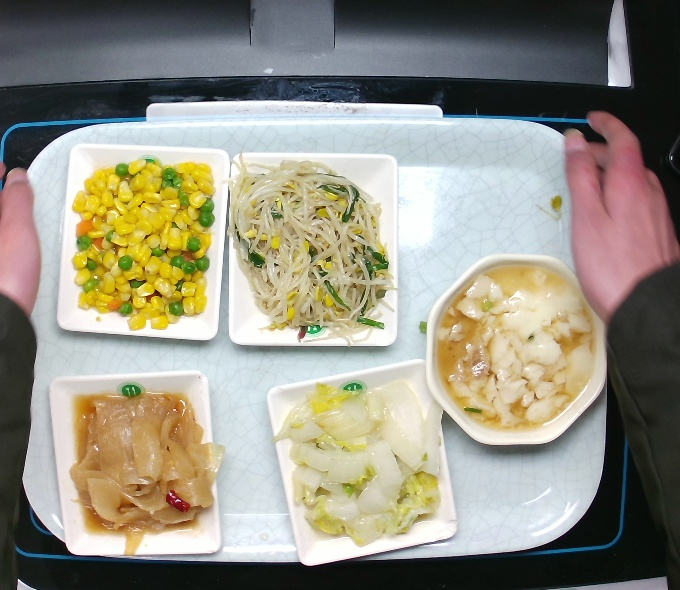wcq-DaBaiCai: (265, 374, 449, 547)
wcq-DongGua: (61, 386, 231, 562)
wcq-DouYa: (218, 146, 403, 353)
wcq-ShuiZhengDan: (431, 257, 605, 441)
wcq-TianMiTianDou: (65, 152, 219, 336)
